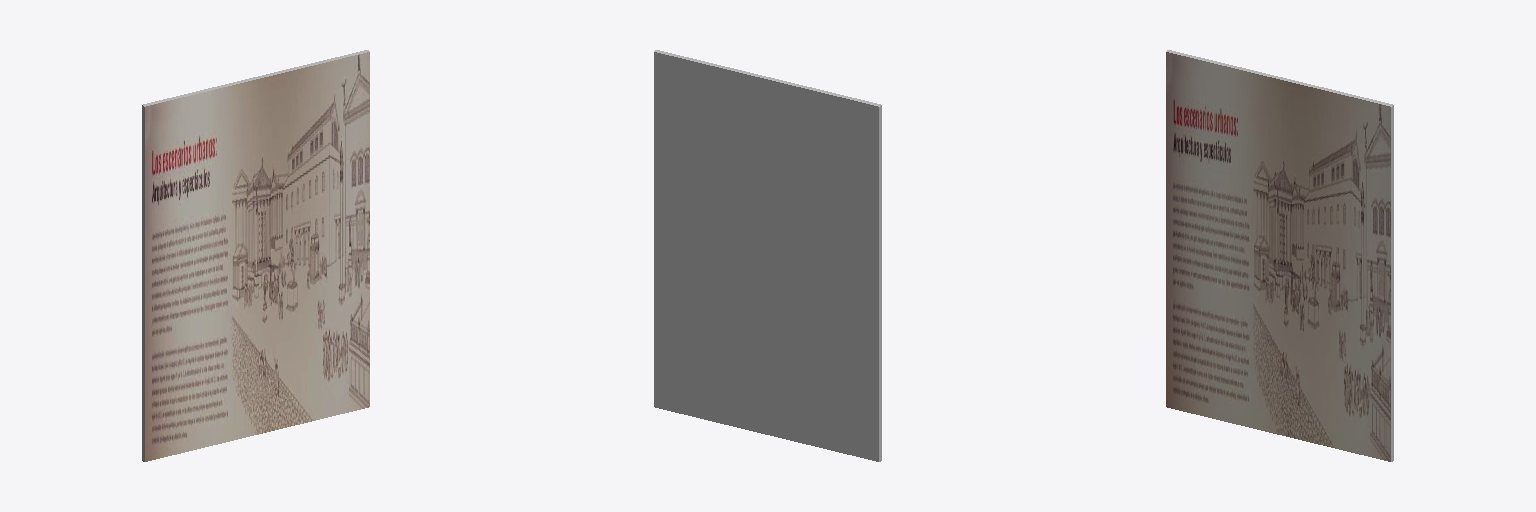
The picture shows the model from 3 angles: view 1: azimuth 30°, elevation 25°; view 2: azimuth 150°, elevation 25°; view 3: azimuth 330°, elevation 25°; orthographic projection.
Parts seen in each view (by area): view 1: SketchUp.001_ID10, SketchUp_ID2; view 2: SketchUp_ID2; view 3: SketchUp.001_ID10, SketchUp_ID2.
Part boxes in pixels (left/top/right/bottom): SketchUp.001_ID10: left=145, top=52, right=369, bottom=461; SketchUp_ID2: left=142, top=50, right=369, bottom=461; SketchUp_ID2: left=654, top=50, right=881, bottom=461; SketchUp.001_ID10: left=1166, top=52, right=1390, bottom=461; SketchUp_ID2: left=1166, top=50, right=1393, bottom=461.
Size of the model in its own units: 188 by 283 by 3.94.
2 materials, 1 textured.